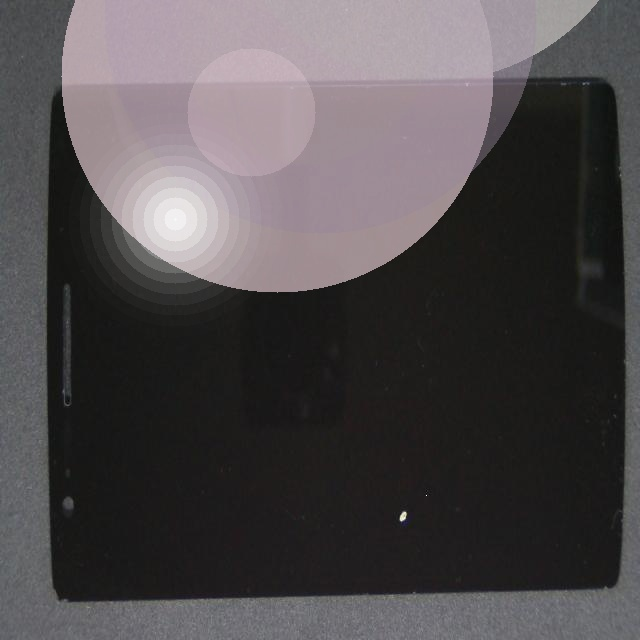stain: (166, 262, 594, 640)
